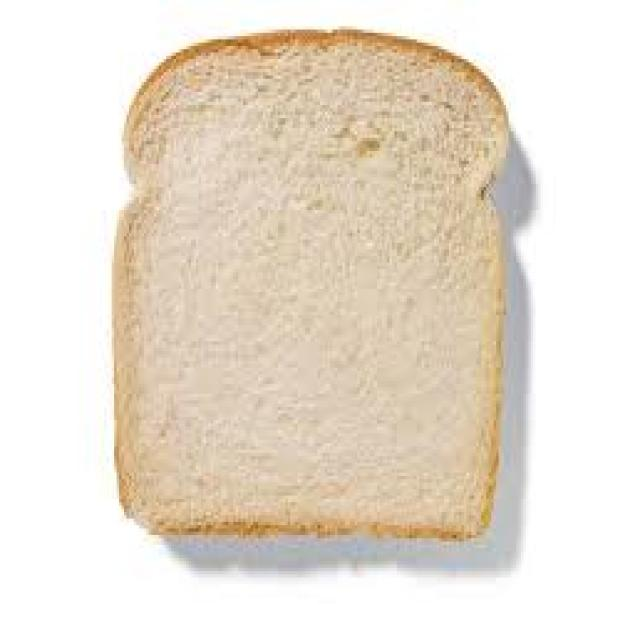Bread: (115, 31, 509, 537)
